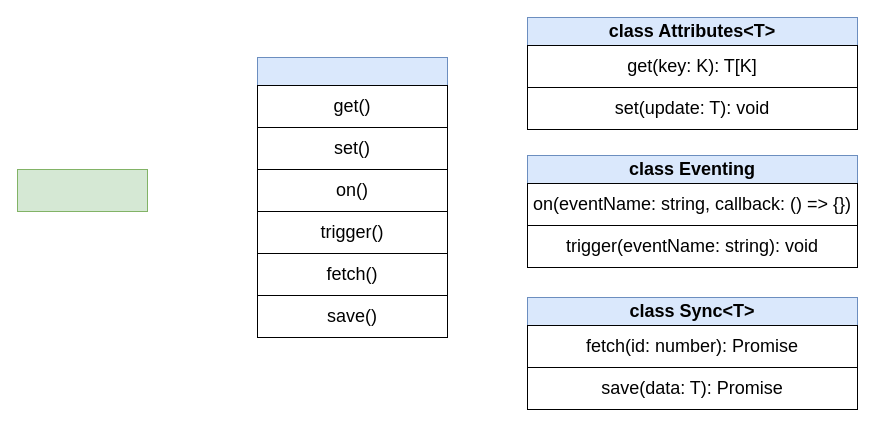
The diagram is 875 pixels wide and 427 high, and some of its shapes have lost their labels. Here are the shapes that lost their labels. From the top down, the centre of each, then its label:
the point at 352,71: class User
the point at 82,190: Caller
